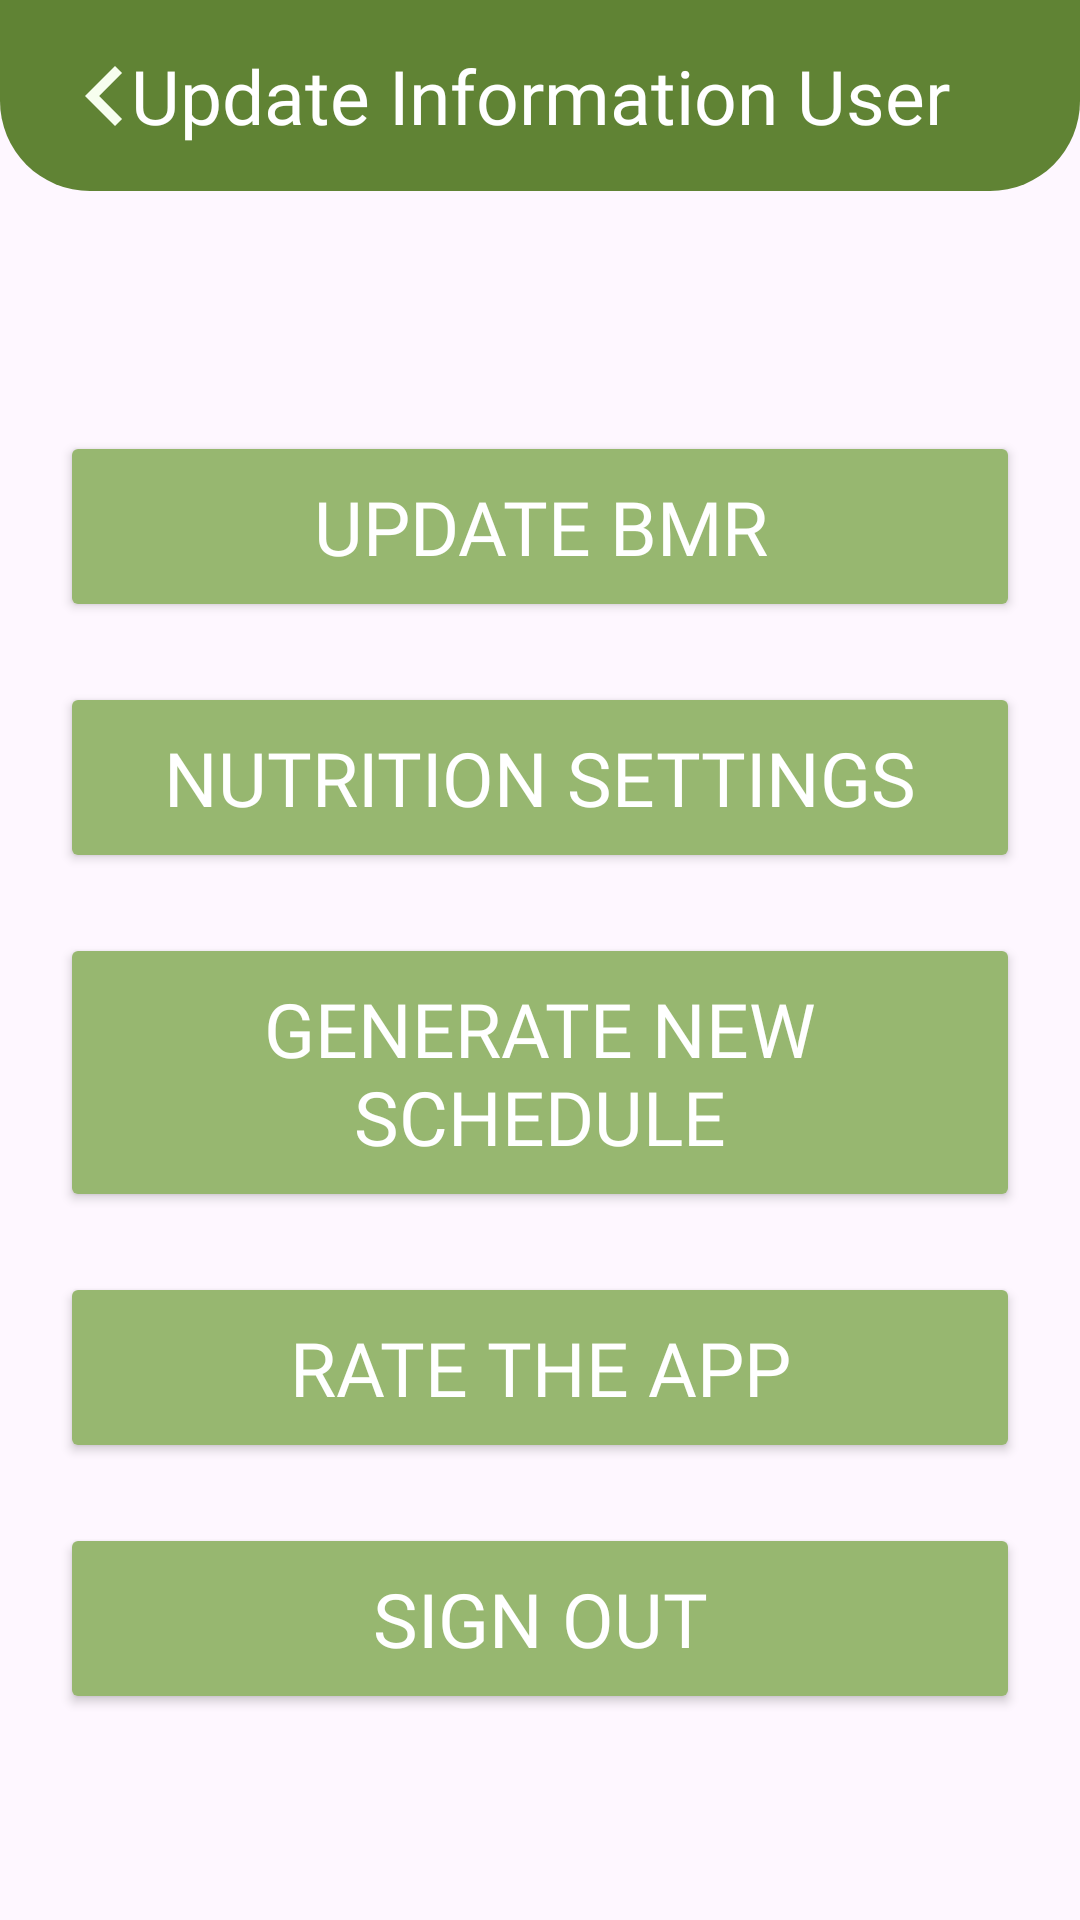

Where to tap for icons on this 1080*1920 app screen, as (x,y):
left: (103,96)
